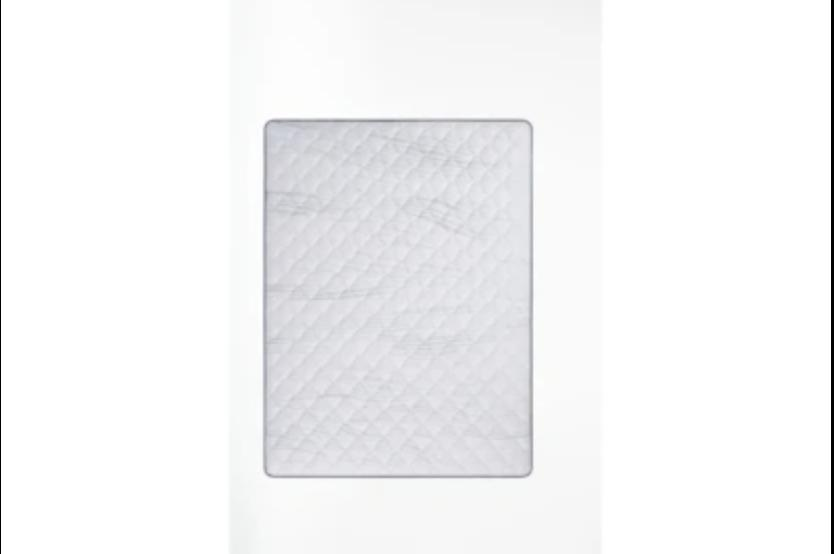Bed-Mattress: (261, 114, 538, 480)
